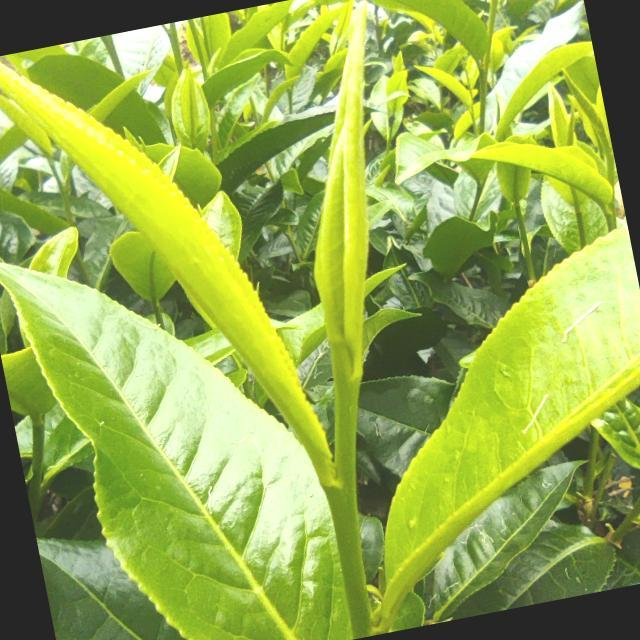Stem: (328, 479, 357, 519)
